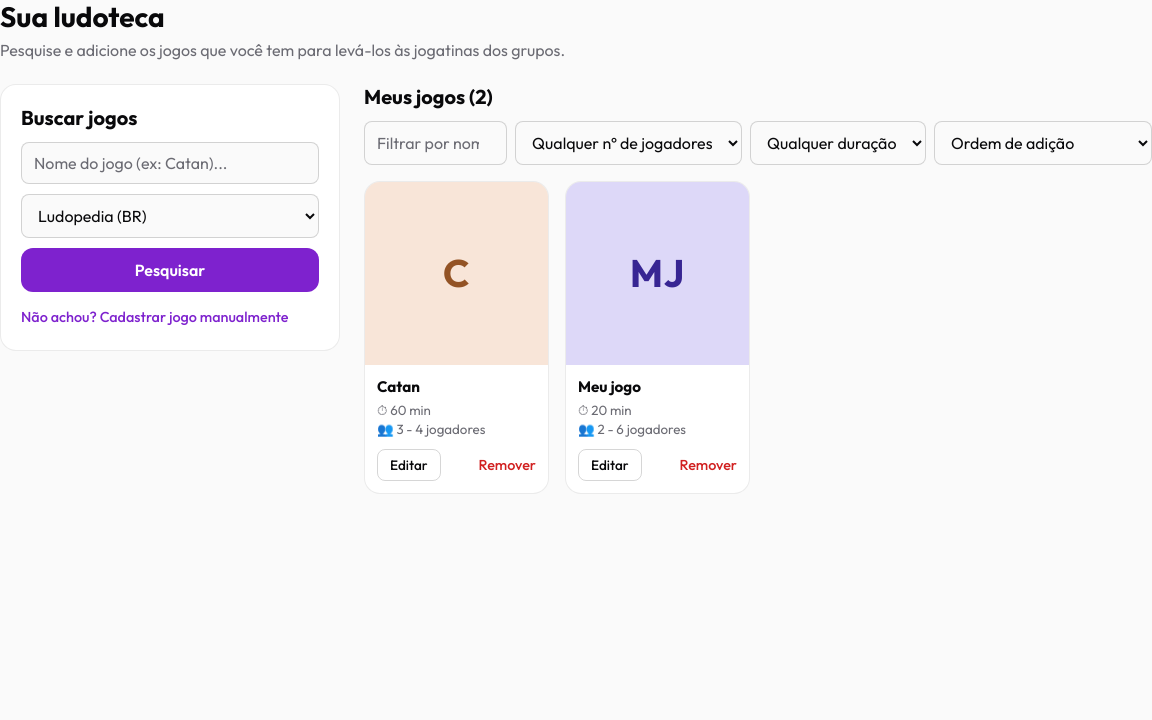
Test: Ludoteca — cadastro manual › cadastra o jogo com id próprio, sem fonte externa e sem imagem
This screenshot has width=1152, height=720.
Expected: the heading "Catan" is shown, [377,377,420,396]
Click the button "Não achou? Cadastrar jogo manualmente".
click(155, 317)  # box [21,304,288,330]
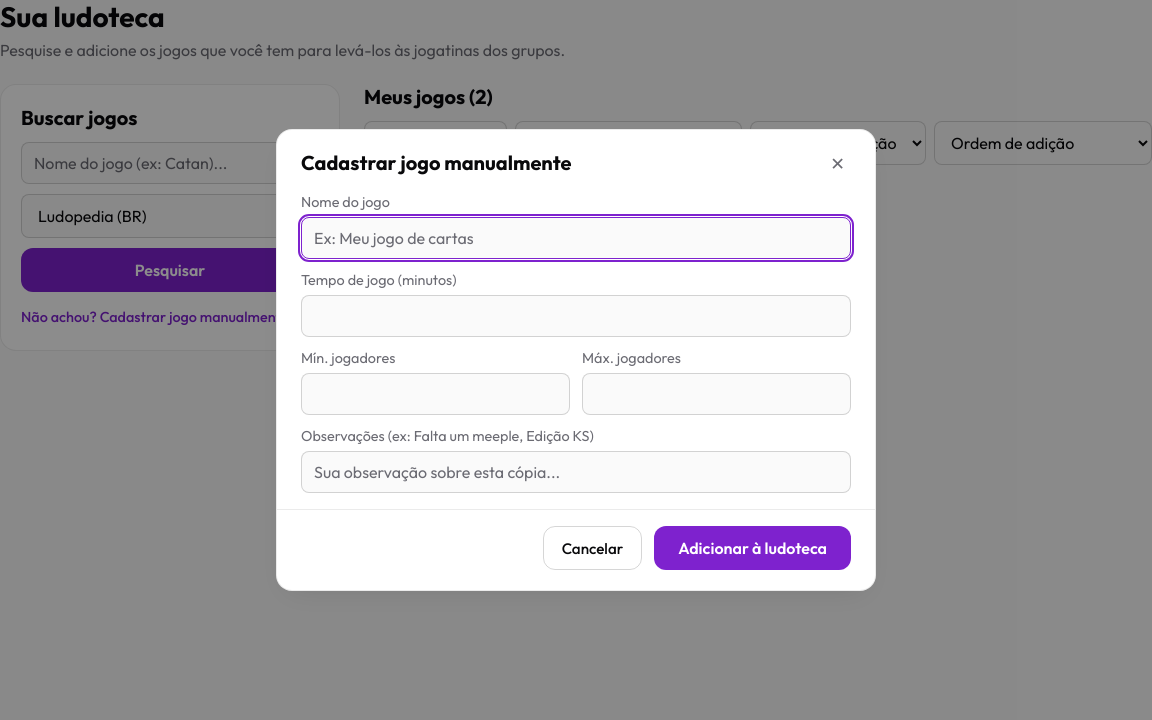
Type "  Jogo da vovó " into the field labelled "Nome do jogo".
click(576, 238); type("  Jogo da vovó ")  # box [301,217,851,259]
Type "30" into the field labelled "Tempo de jogo (minutos)".
click(576, 316); type("30")  # box [301,295,851,337]
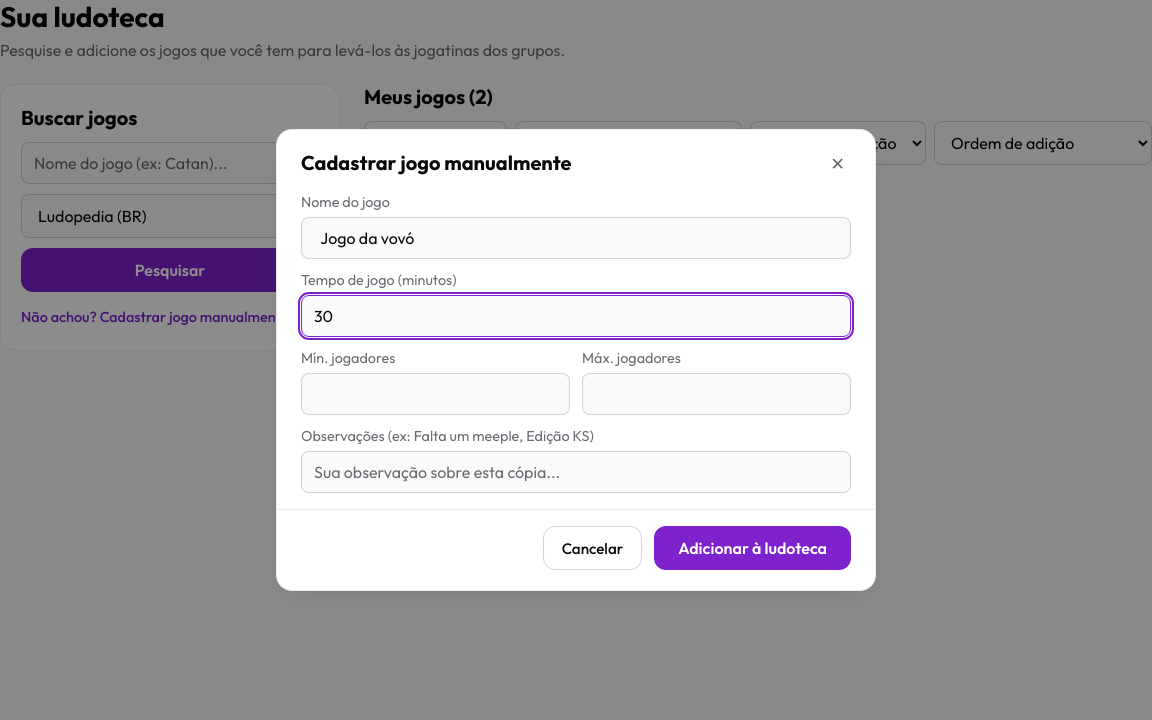
Type "2" into the number field labelled "Mín. jogadores".
click(436, 394); type("2")  # box [301,373,570,415]
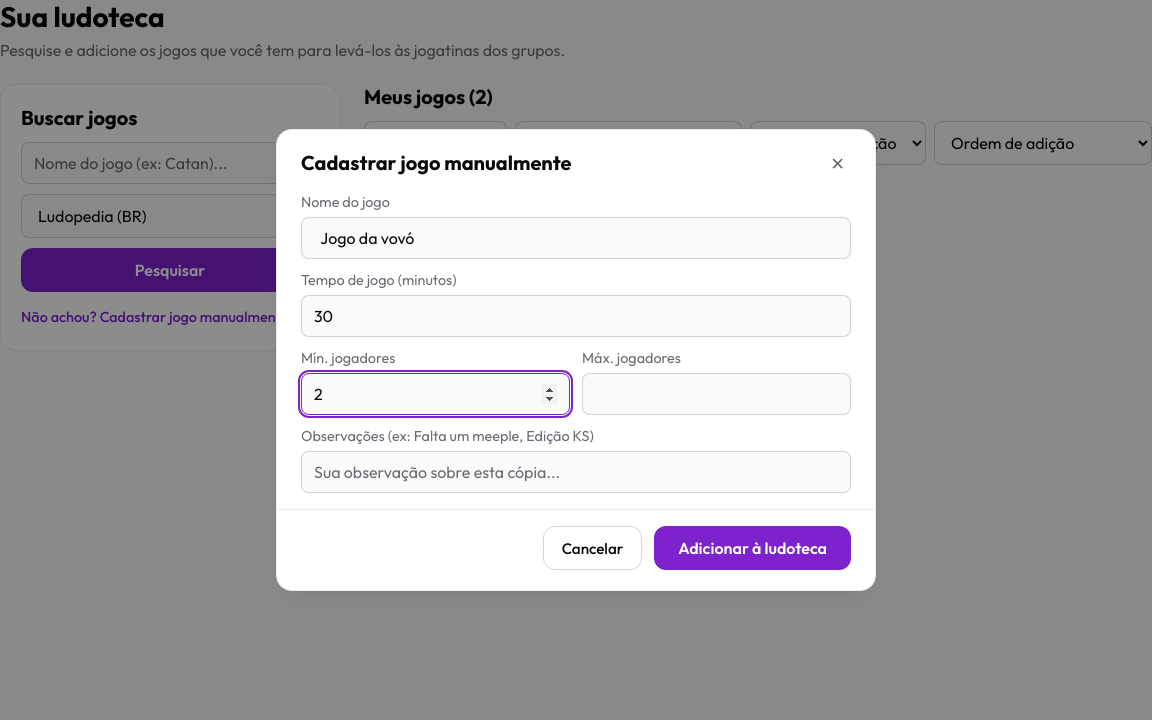
Type "4" into the number field labelled "Máx. jogadores".
click(716, 394); type("4")  # box [582,373,851,415]
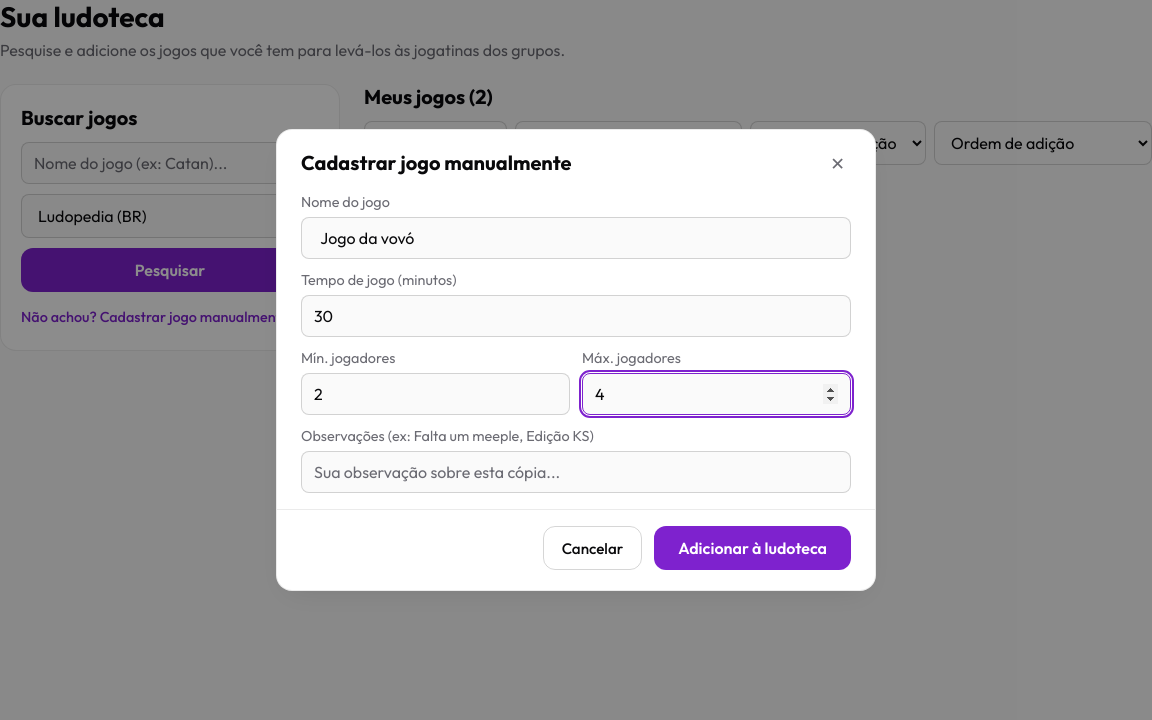
Type "Falta uma peça" into the field labelled "Observações (ex: Falta um meeple, Edição KS)".
click(576, 472); type("Falta uma peça")  # box [301,451,851,493]
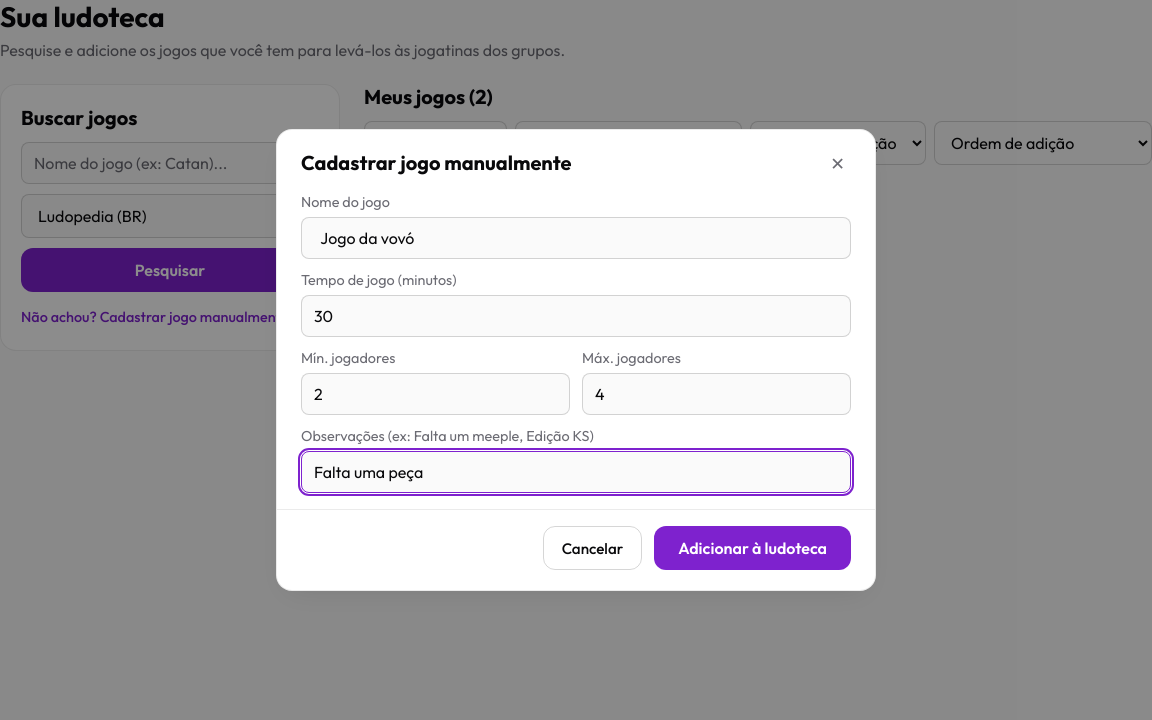
Click the button "Adicionar à ludoteca".
click(753, 548)  # box [654,526,851,570]
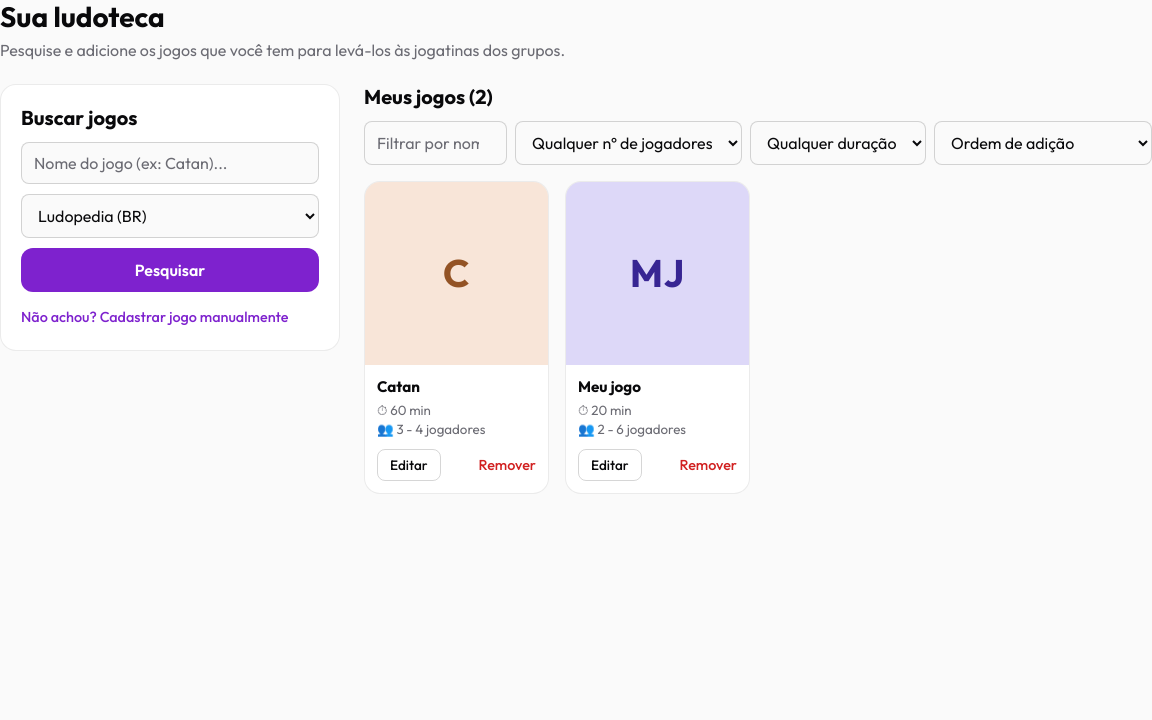
Result: the dialog is gone
